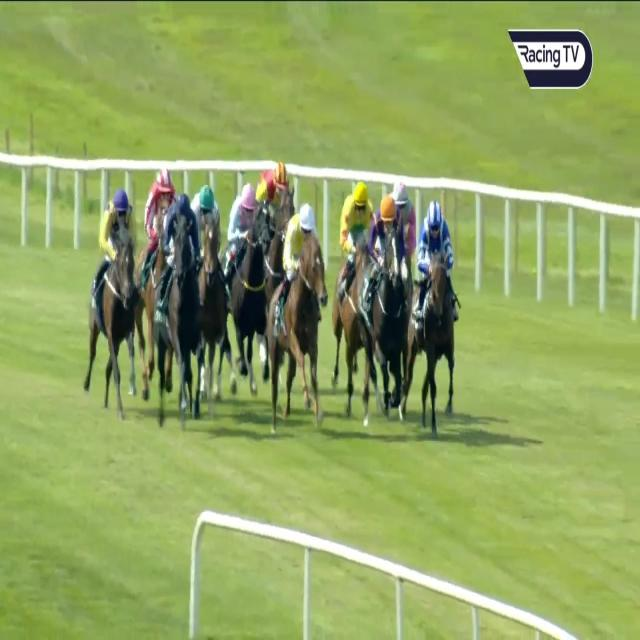horses-racing: (268, 198, 323, 422), (86, 186, 140, 411), (226, 183, 269, 405), (366, 190, 406, 428), (412, 194, 452, 422), (156, 190, 196, 408), (335, 180, 375, 397), (192, 177, 220, 404), (142, 166, 178, 271), (256, 156, 294, 232), (391, 170, 415, 265)
